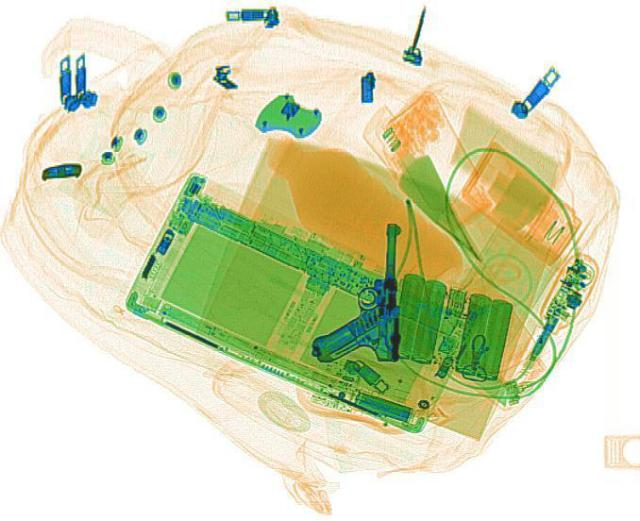Gun: (310, 222, 400, 359)
